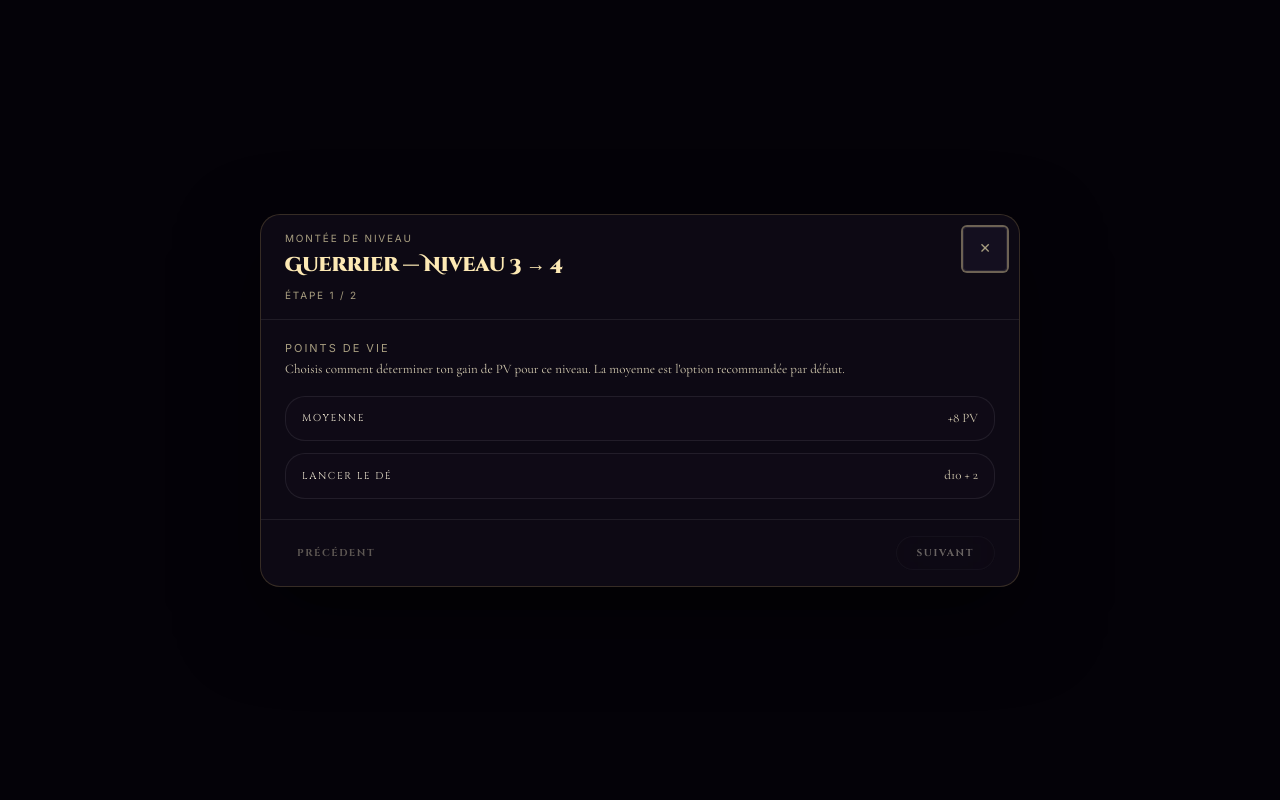
Test: LevelUpModal — gating des feats par prerequisites (JALON 2C-feat-4) › Fighter L3 → L4 avec FOR 12 : toggle Don auto-sélectionne le premier feat éligible
The width and height of the screenshot is (1280, 800).
Click the button "Moyenne +8 PV": [334, 418] box [285,396,995,441]
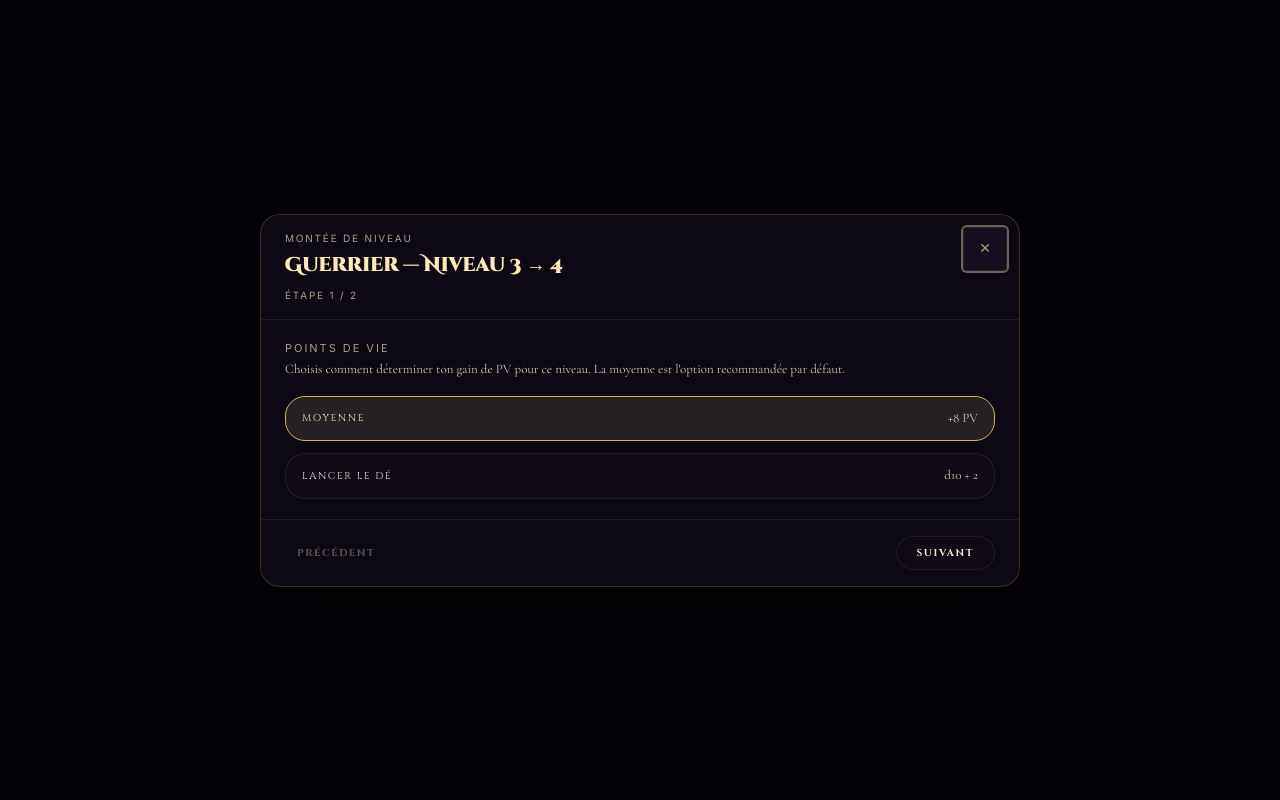
Click the button "Suivant": [945, 552] box [896,536,995,570]
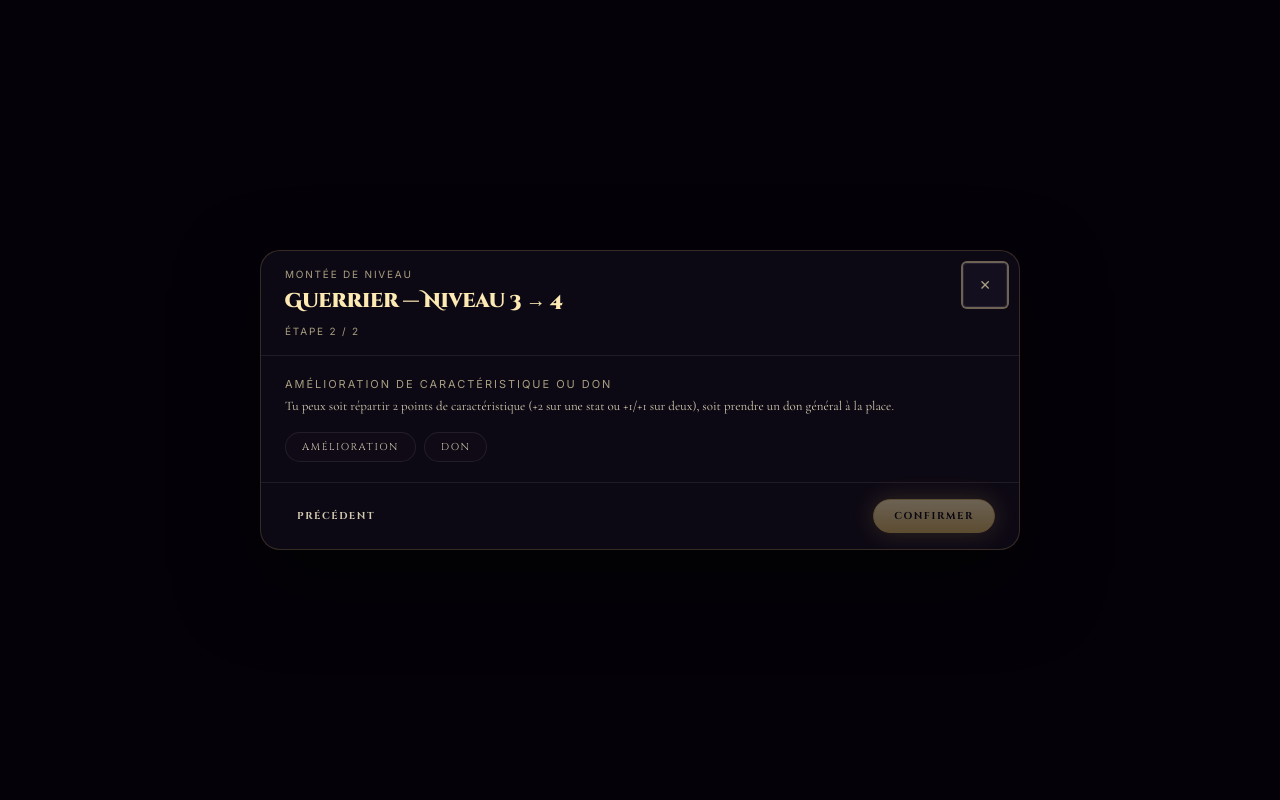
Click the radio button labelled "Don": [456, 447] box [424,432,488,462]
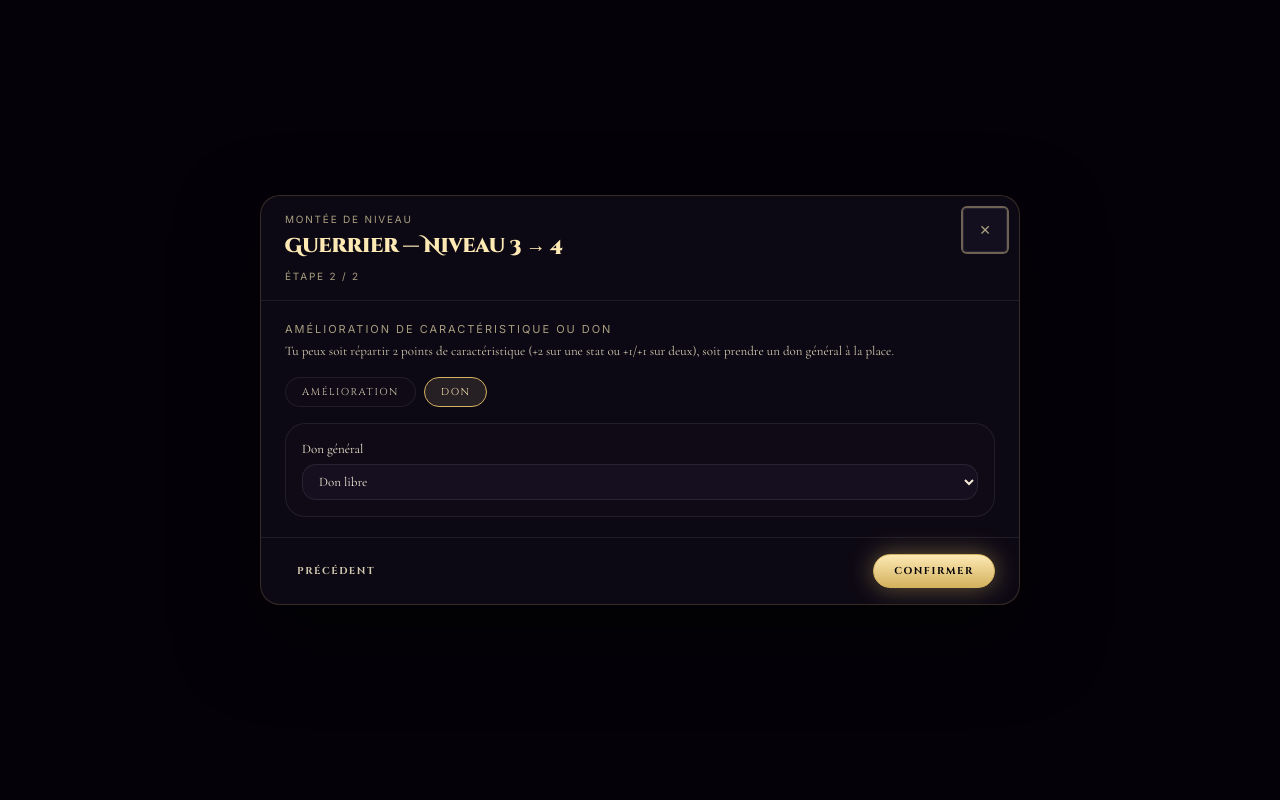
Expected: the dropdown shows "Don libre", [302,464,978,500]
